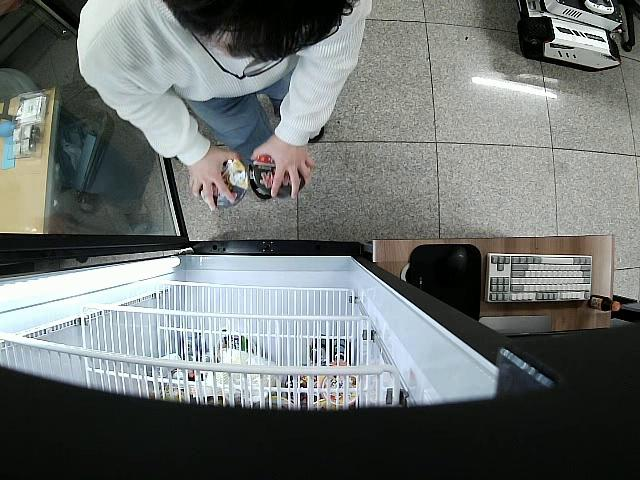00_hand: (251, 133, 313, 199), (188, 146, 239, 211)
07_buldak_L: (244, 151, 308, 203), (201, 160, 252, 212)
